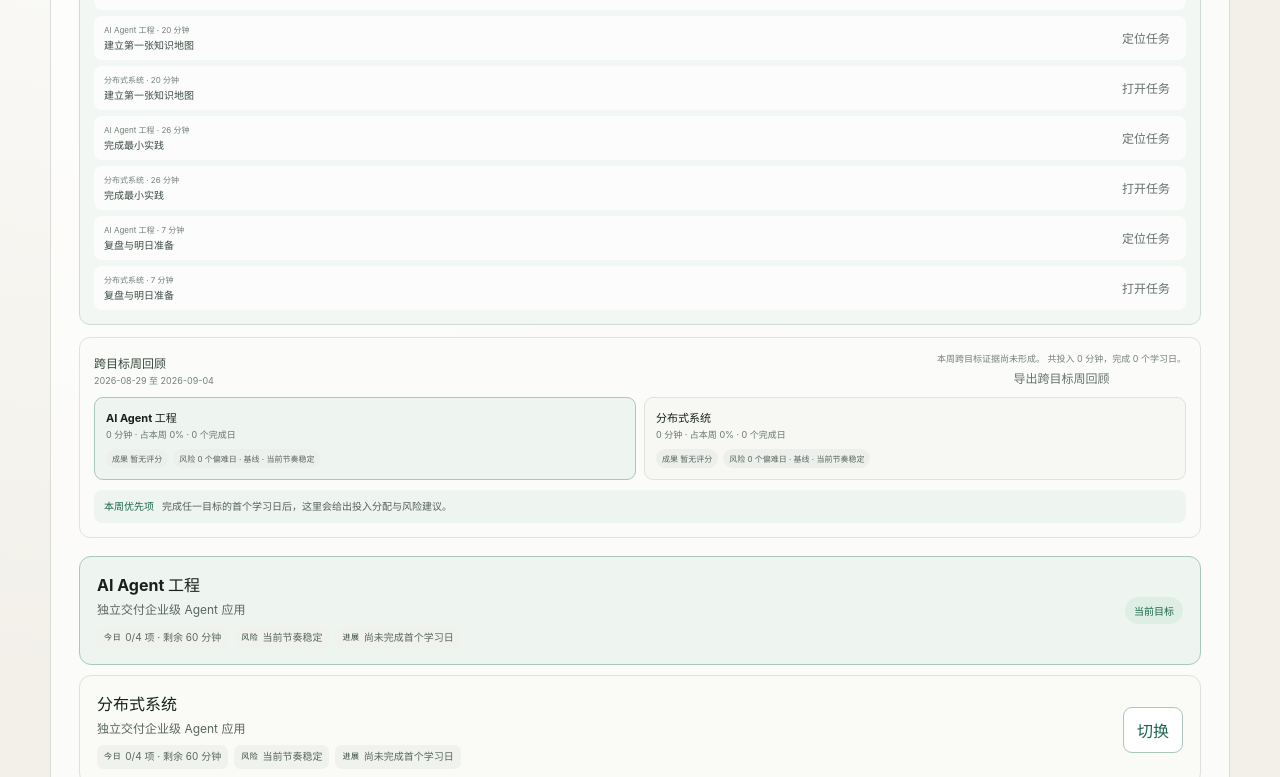
Test: learning data controls › downloads the cross-goal weekly review as Markdown
The image size is (1280, 777).
(page scrolled)
Click the button "导出跨目标周回顾": (1061, 377) top-left (1007, 368), bottom-right (1115, 386)
(page scrolled)
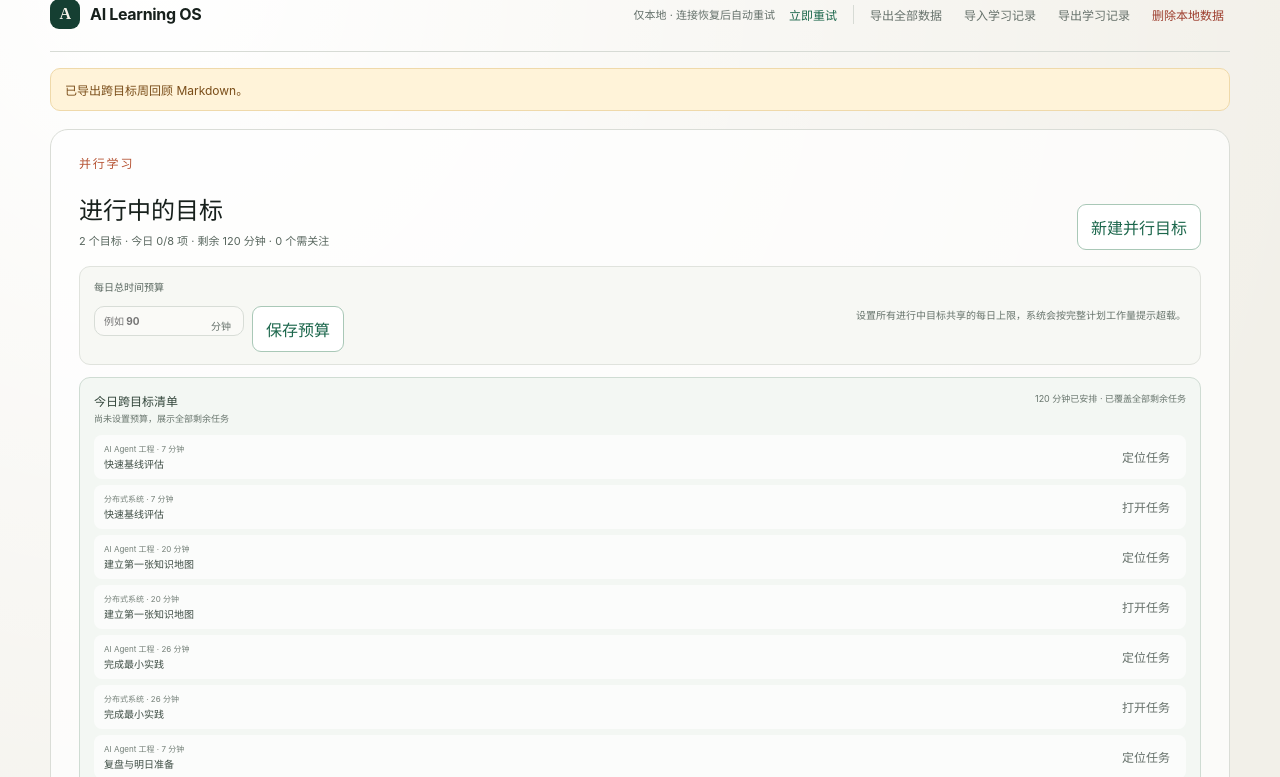
Now the text "已导出跨目标周回顾 Markdown。" is shown, box top-left (50, 68), bottom-right (1230, 111)
